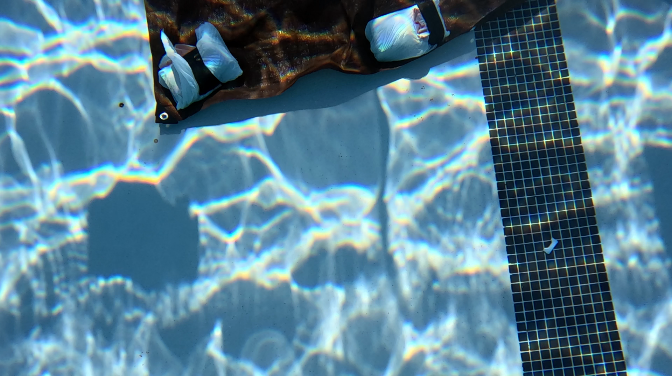sandbag: (144, 0, 512, 124)
